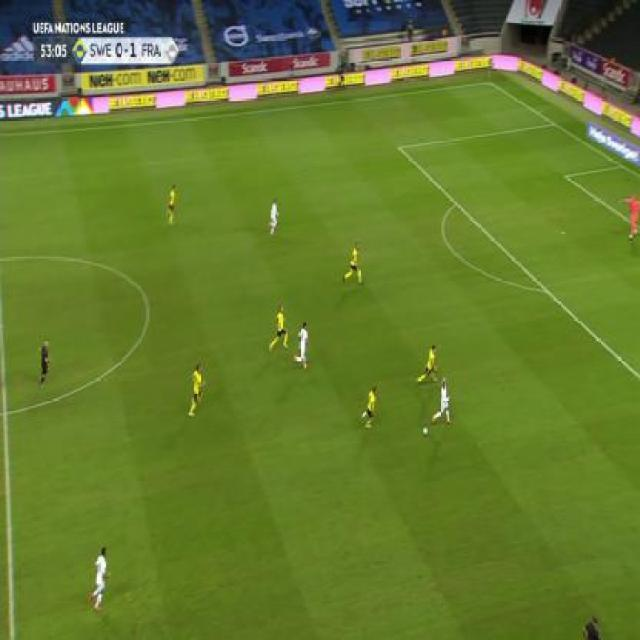ball: (423, 425, 429, 436)
player: (88, 545, 111, 613), (185, 361, 207, 417), (268, 301, 291, 354), (430, 376, 453, 427), (342, 240, 364, 286), (292, 319, 311, 370), (416, 343, 439, 385), (620, 192, 640, 238), (360, 384, 379, 429), (36, 338, 52, 391), (581, 612, 603, 640), (266, 198, 280, 237), (165, 184, 178, 224)
